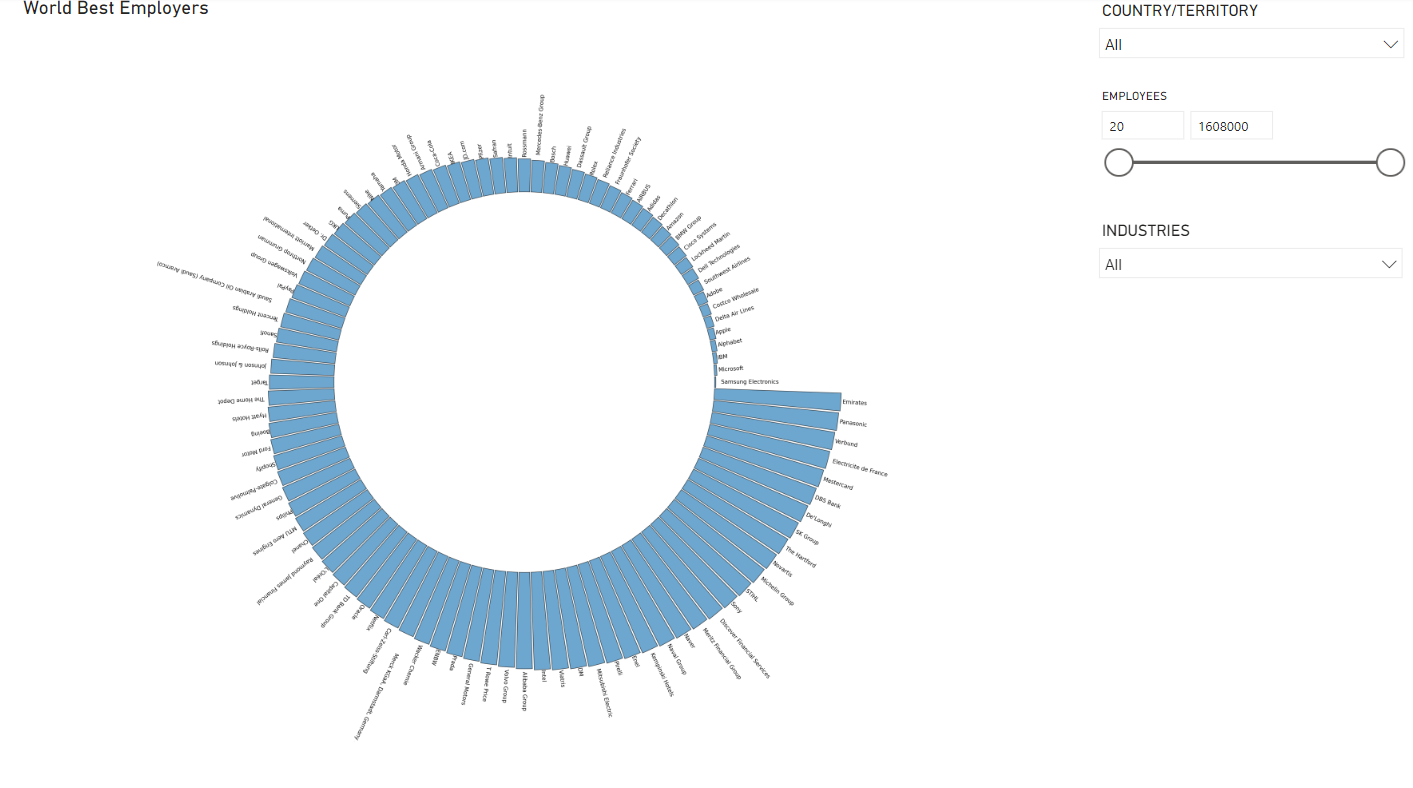

This screenshot's page, from the dashboard's own definition file:
{"tool":"powerbi","page":{"name":"Page 1","canvas":[1280,720],"ordinal":0},"visuals":[{"type":"pythonVisual","title":"World Best Employers","fields":{"Values":["Worlds Best Employers.RANK","Worlds Best Employers.NAME","Worlds Best Employers.INDUSTRIES","Worlds Best Employers.EMPLOYEES","Worlds Best Employers.COUNTRY/TERRITORY"]},"box":[20,0,914.3,677.1],"z":0},{"type":"slicer","fields":{"Values":["Worlds Best Employers.COUNTRY/TERRITORY"]},"box":[984.3,0,295.7,78.6],"z":1000},{"type":"slicer","fields":{"Values":["Worlds Best Employers.EMPLOYEES"]},"box":[984.3,78.6,294.3,120],"z":2000},{"type":"slicer","fields":{"Values":["Worlds Best Employers.INDUSTRIES"]},"box":[984.3,198.6,294.3,85.7],"z":3000}]}

Visuals, with their boxes in screenshot pixels (x1, y1, x2, y2), scaled from the page's 1280x720 canvas onto the 1413x788 screenshot:
"World Best Employers" pythonVisual: box(22, 0, 1031, 741)
slicer - Worlds Best Employers.COUNTRY/TERRITORY: box(1087, 0, 1412, 86)
slicer - Worlds Best Employers.EMPLOYEES: box(1087, 86, 1411, 217)
slicer - Worlds Best Employers.INDUSTRIES: box(1087, 217, 1411, 311)
